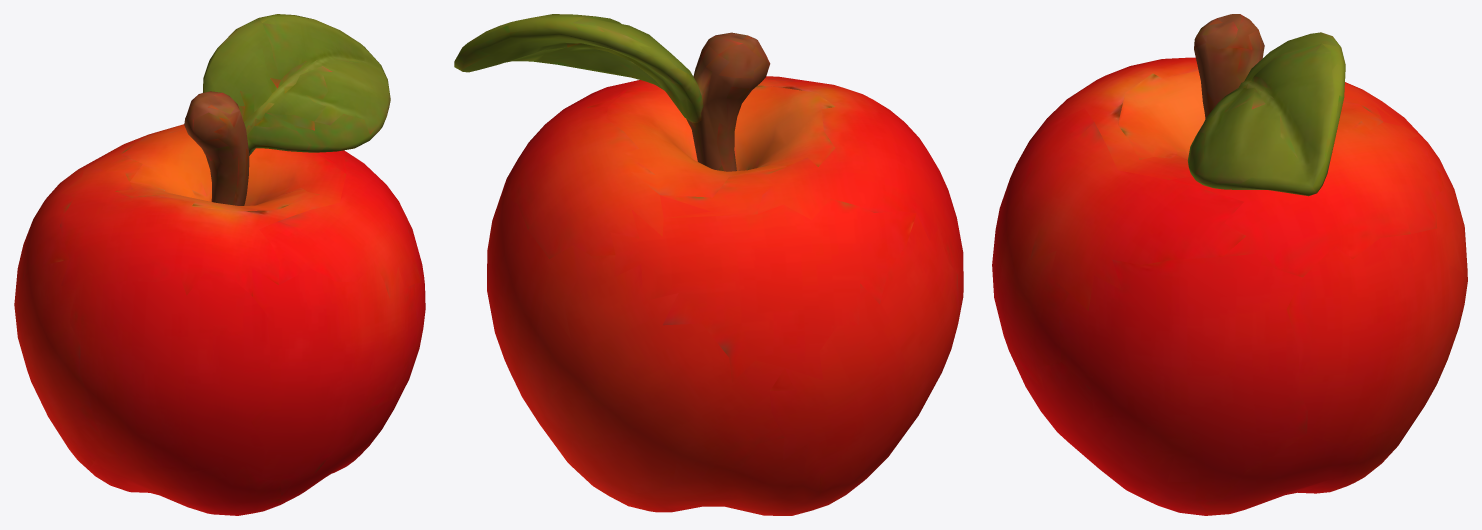
The picture shows the model from 3 angles, left to right: view 1: azimuth 30°, elevation 25°; view 2: azimuth 150°, elevation 25°; view 3: azimuth 270°, elevation 25°; orthographic projection. The views are drawn at different scales.
Parts seen in each view (by area): view 1: apple; view 2: apple; view 3: apple.
Part boxes in pixels (x1,y1,x2,y2): apple: (14, 14, 425, 515); apple: (454, 14, 963, 515); apple: (992, 14, 1467, 515).
Size of the model in its own units: 0.1163 by 0.1201 by 0.1094.
Materials: 1 (1 with a texture image).
